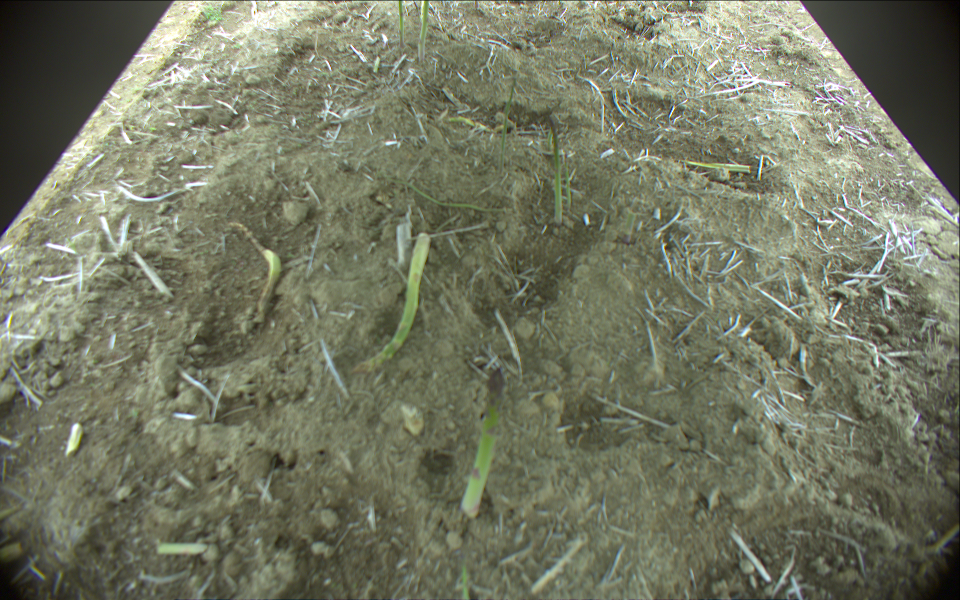aspa: (355, 231, 430, 371), (456, 348, 506, 516), (222, 222, 280, 318), (406, 180, 512, 215), (494, 69, 520, 176), (539, 108, 562, 227), (665, 156, 752, 174), (417, 1, 431, 64), (397, 1, 408, 52)
